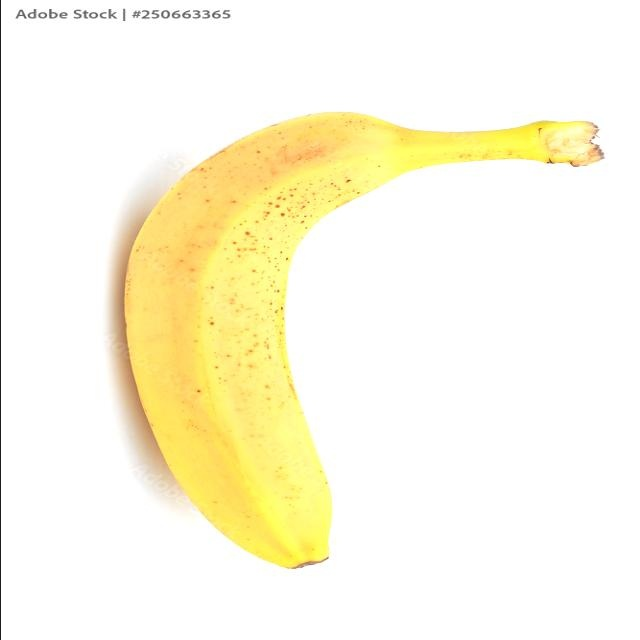agrume: (112, 101, 612, 577)
